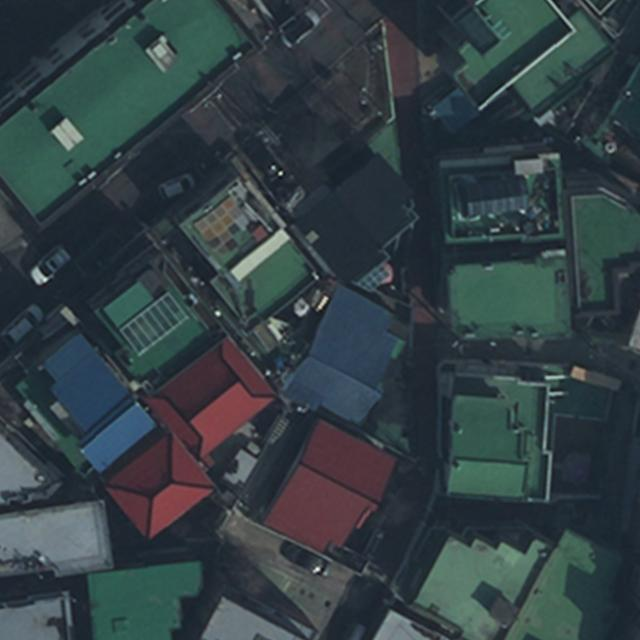panel: (463, 176, 528, 214)
